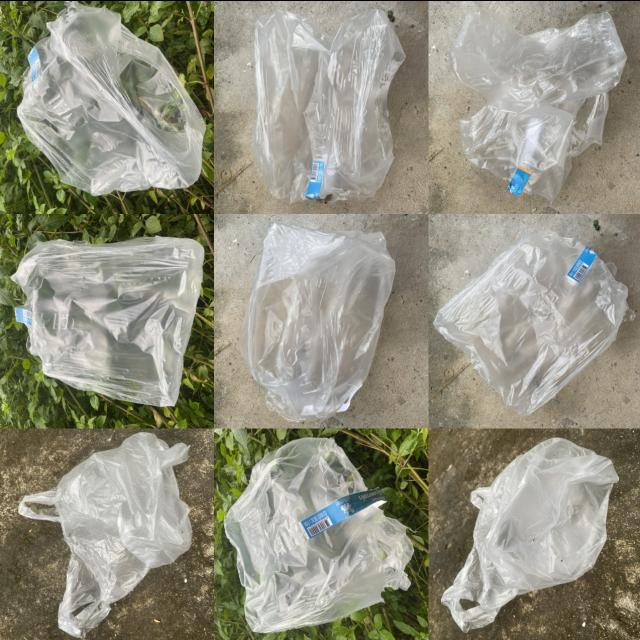plastik: (17, 1, 206, 195), (224, 437, 412, 632), (433, 228, 628, 416), (18, 431, 192, 637), (442, 437, 619, 631), (451, 7, 625, 201), (12, 236, 204, 406), (238, 222, 395, 421), (251, 7, 405, 202)
